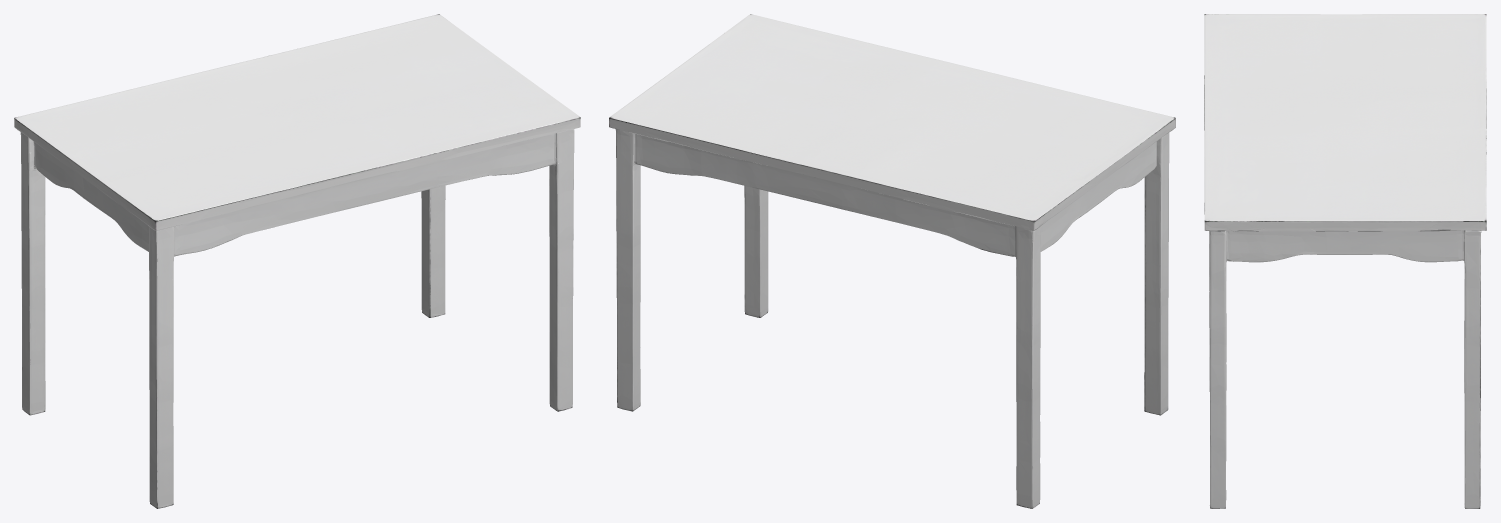
The picture shows the model from 3 angles, left to right: view 1: azimuth 30°, elevation 25°; view 2: azimuth 150°, elevation 25°; view 3: azimuth 270°, elevation 25°; orthographic projection.
Parts seen in each view (by area): view 1: world; view 2: world; view 3: world.
Boxes of the visible parts, x1=… form: world: x1=14, y1=14, x2=580, y2=508; world: x1=609, y1=14, x2=1175, y2=508; world: x1=1204, y1=14, x2=1486, y2=508.
Bounding box in the file's own units: 0.9975 × 0.6531 × 0.5754.
1 material, 1 textured.
